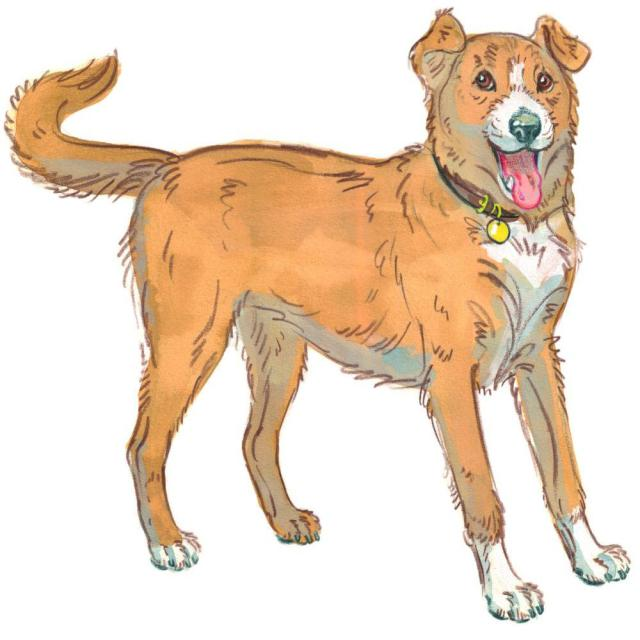Dog: (10, 21, 625, 606)
